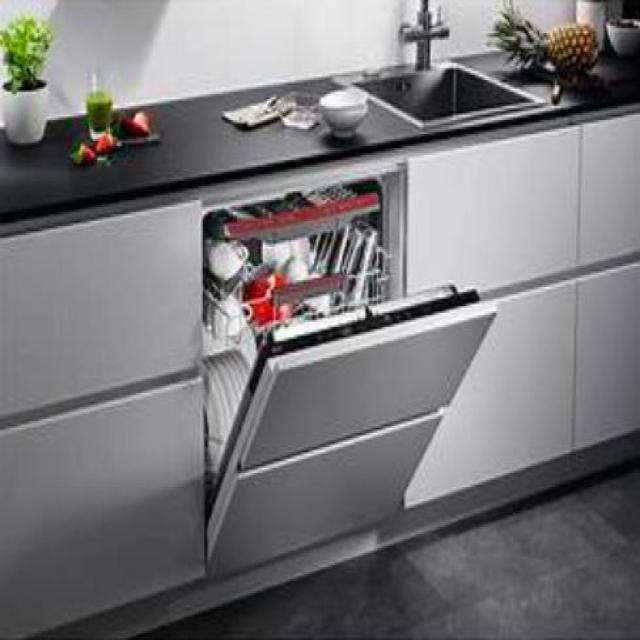dishwasher: (200, 151, 496, 574)
